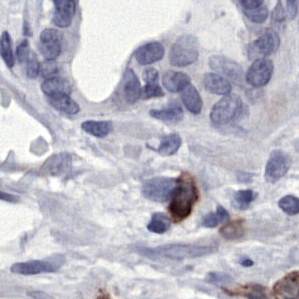Lymphocyte: (171, 171, 200, 220)
